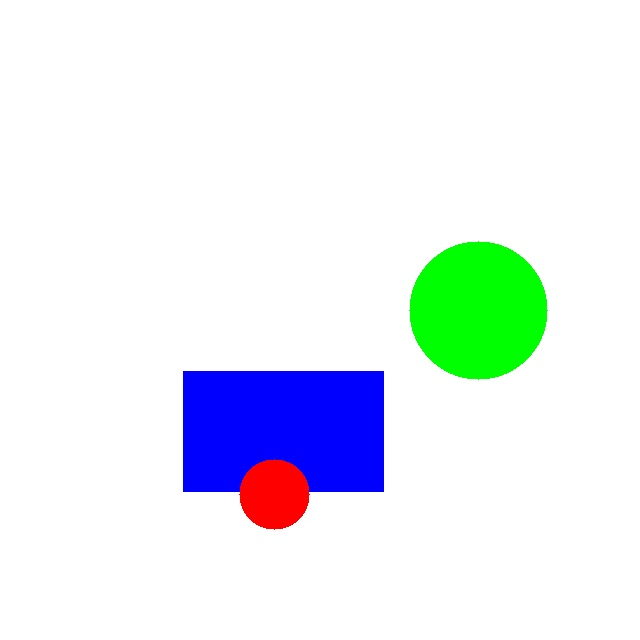cartao: (183, 371, 383, 491)
rosca_externa: (409, 241, 547, 379)
rosca_interna: (239, 459, 309, 529)
